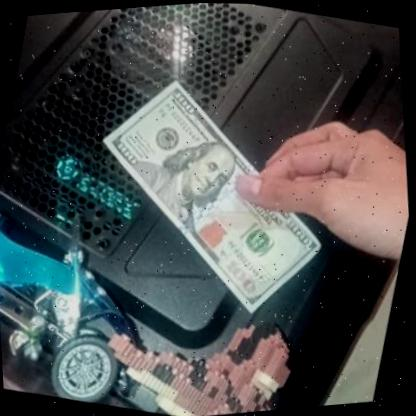dollar_front: (54, 45, 371, 346)
